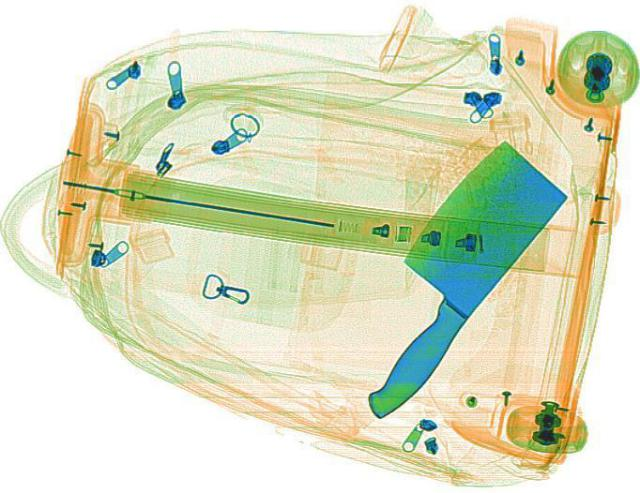Knife: (314, 132, 584, 433)
